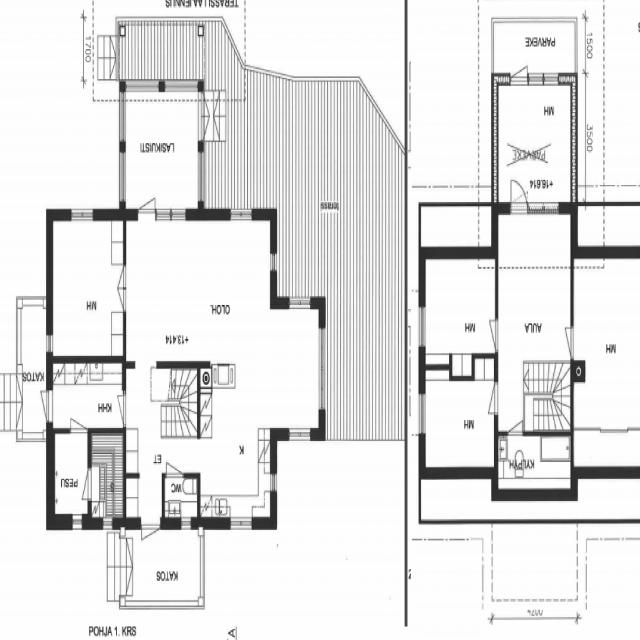door: (141, 518, 160, 564), (138, 176, 156, 220), (29, 390, 53, 422), (511, 42, 528, 85), (511, 171, 528, 214), (478, 320, 498, 351), (554, 329, 574, 359), (70, 397, 87, 432), (72, 468, 91, 498), (166, 443, 182, 478), (479, 383, 498, 412), (108, 398, 127, 426), (508, 404, 522, 436), (110, 288, 127, 312), (110, 265, 127, 288)
